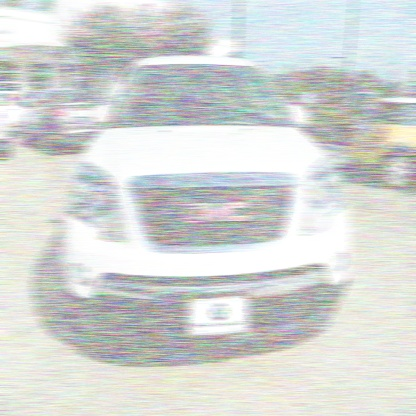Vehicle: (59, 53, 353, 353)
